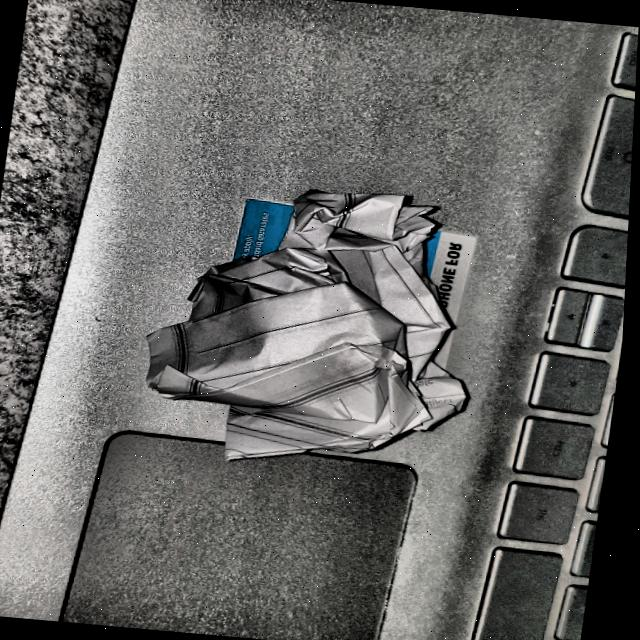paper: (112, 153, 515, 497)
